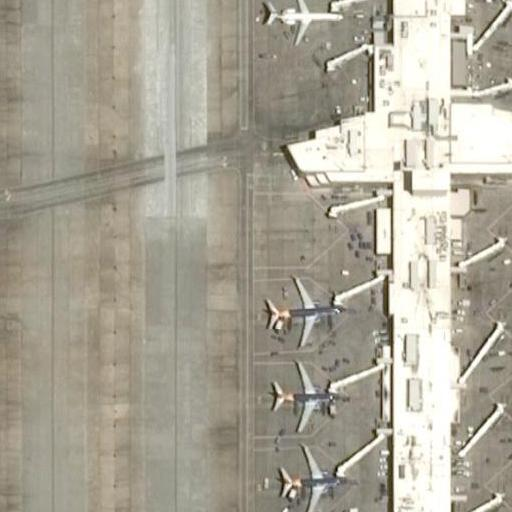Aircraft: (255, 274, 347, 347), (258, 361, 348, 432), (270, 445, 353, 512), (259, 0, 340, 46), (499, 0, 512, 28)
